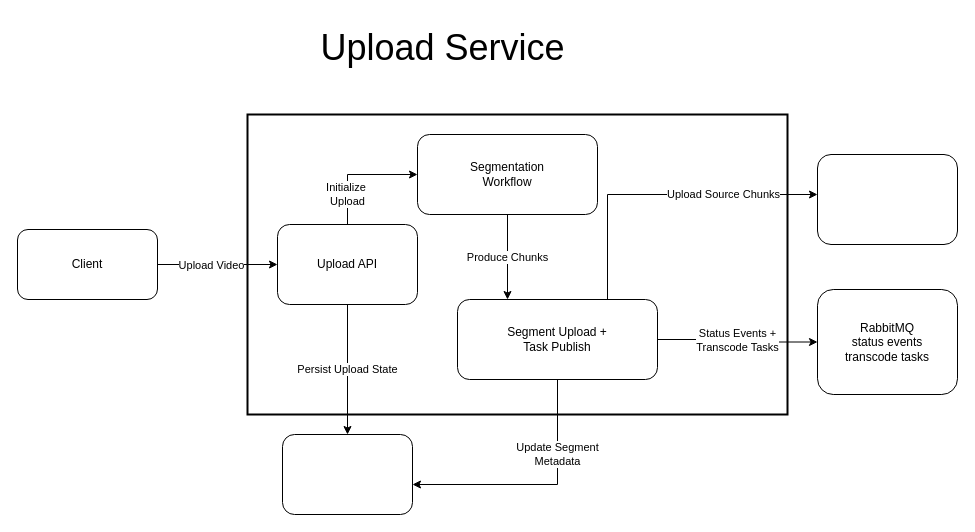
This 975x532 diagram has some shape labels left out. Here are the shapes that lost their labels. From the top down, the centre of each, then its label:
the point at 887,199: MinIO / S3 metadata source chunks
the point at 347,474: Postgres
